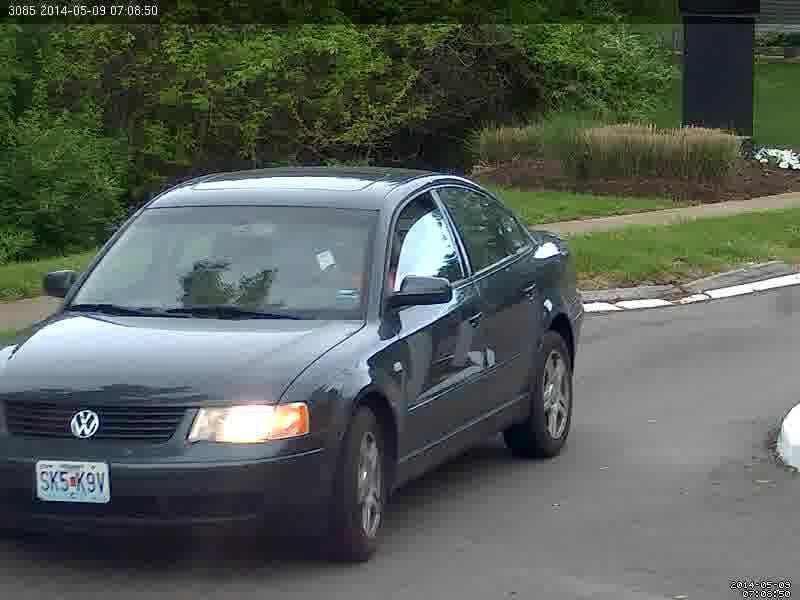placa de veiculo: (27, 442, 133, 518)
